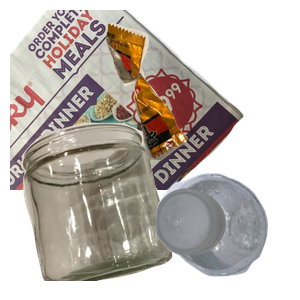glass: (19, 120, 184, 300)
paper: (10, 10, 247, 190)
plastic: (153, 170, 300, 300)
trash: (103, 21, 300, 174)
